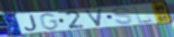2: (64, 10, 87, 30)
G: (38, 12, 60, 31)
J: (24, 14, 39, 32)
L: (133, 5, 155, 25)
S: (112, 6, 134, 25)
V: (83, 8, 104, 28)
